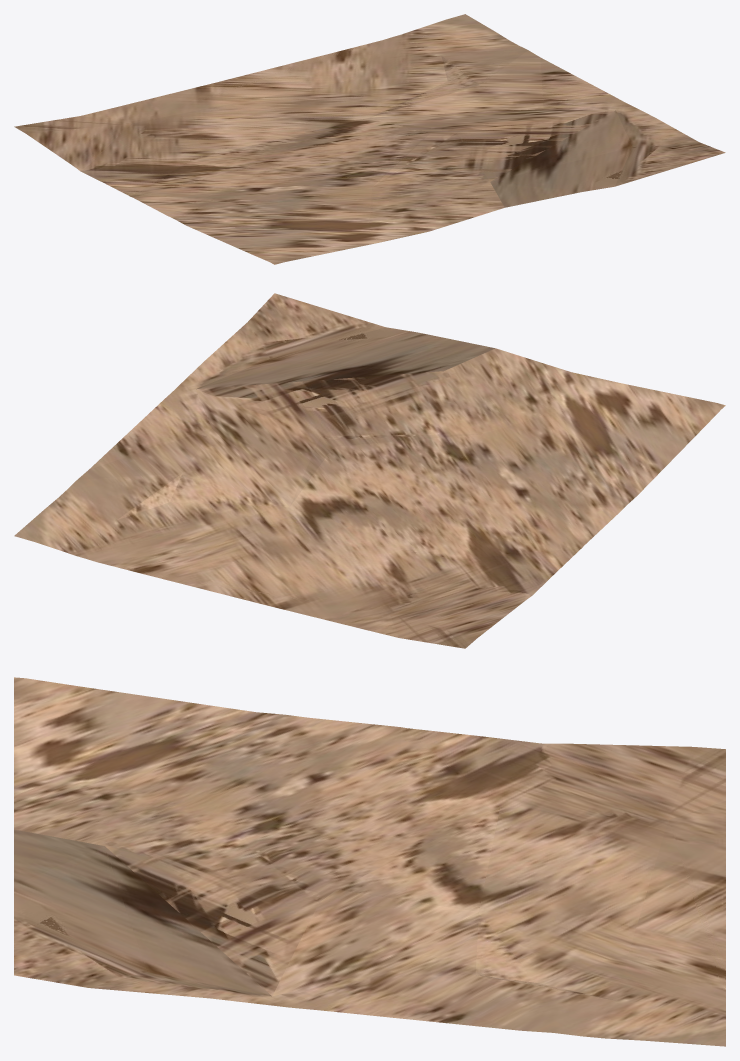
3 renders of one model, top to bottom at view 1: azimuth 30°, elevation 25°; view 2: azimuth 150°, elevation 25°; view 3: azimuth 270°, elevation 25°, orthographic. The views are drawn at different scales.
Bounding box in the file's own units: 2.09 × 0.2659 × 2.09.
Materials: 3 (3 with a texture image).
